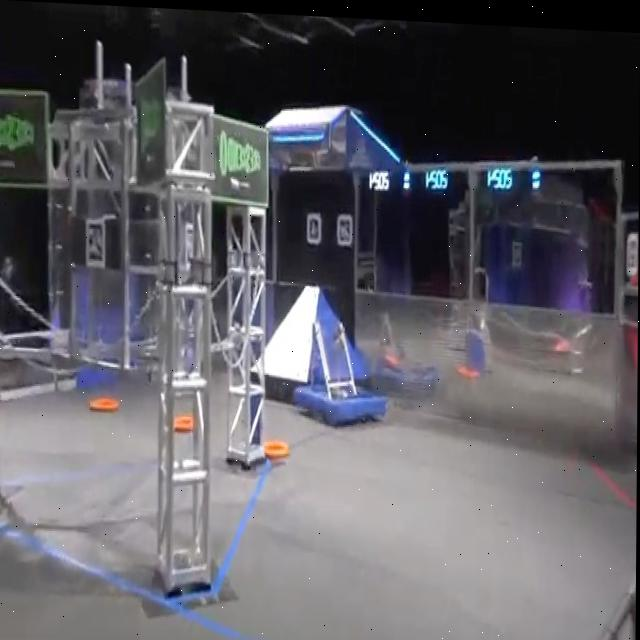note: (89, 393, 120, 413), (265, 434, 290, 457), (175, 412, 194, 430)
robot: (293, 311, 391, 426)
